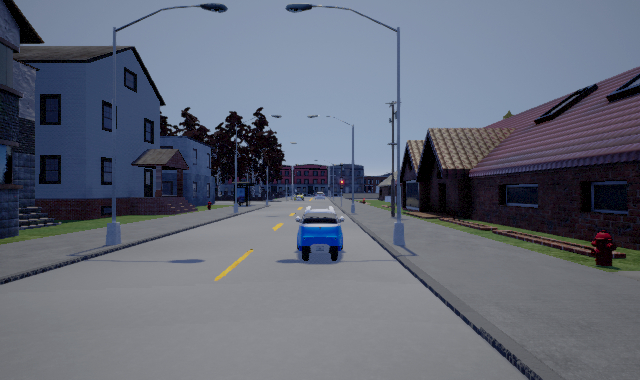traffic_light: (339, 180, 344, 190)
vehicle: (296, 209, 344, 261)
